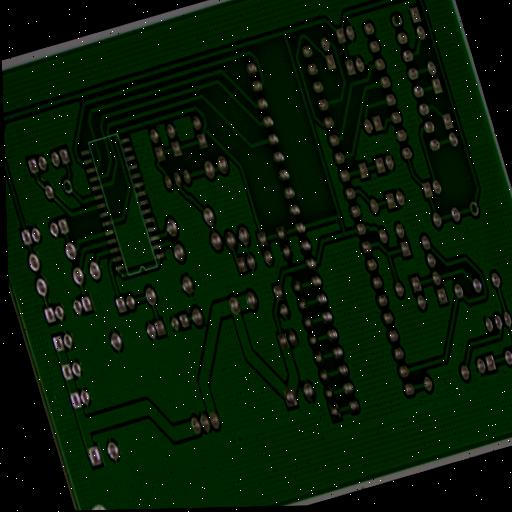missing_hole: (467, 197, 482, 221), (389, 9, 405, 29), (60, 176, 75, 197)
